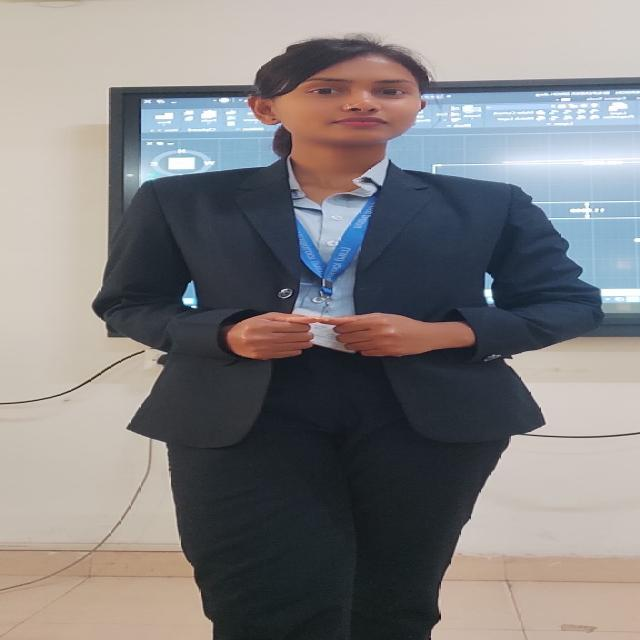uniform: (91, 154, 605, 638)
